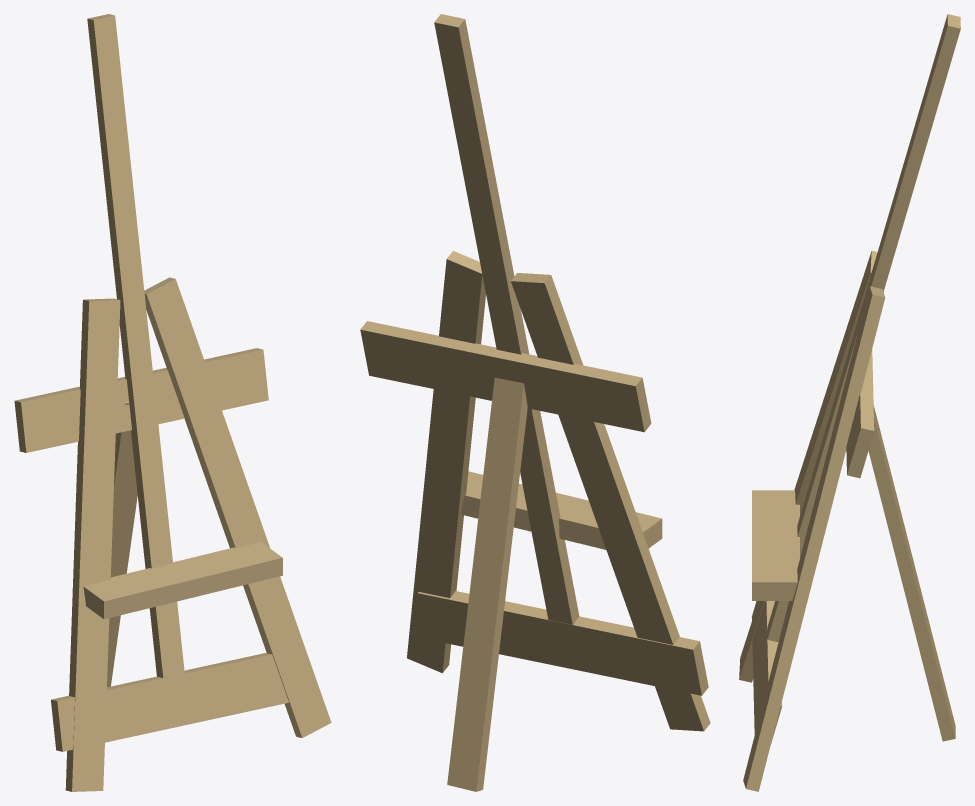
File: atoll_Easel.fbx
3 views of the same model, side by side, from view 1: azimuth 30°, elevation 25°; view 2: azimuth 150°, elevation 25°; view 3: azimuth 270°, elevation 25° (orthographic). The views are drawn at different scales.
Visible parts, largest first — view 1: pasted__pCube4, pasted__pCube1, pasted__pCube2, pasted__pCube5, pasted__pCube3, pasted__pCube7, pasted__pCube6; view 2: pasted__pCube4, pasted__pCube1, pasted__pCube6, pasted__pCube3, pasted__pCube2, pasted__pCube5, pasted__pCube7; view 3: pasted__pCube2, pasted__pCube4, pasted__pCube6, pasted__pCube7, pasted__pCube1, pasted__pCube3, pasted__pCube5.
Part boxes in pixels (x1,y1,x2,y2): pasted__pCube4: (87,14,184,677); pasted__pCube1: (65,298,120,791); pasted__pCube2: (144,277,331,737); pasted__pCube5: (51,653,288,751); pasted__pCube3: (14,348,268,452); pasted__pCube7: (83,542,282,619); pasted__pCube6: (107,402,137,687); pasted__pCube4: (434,14,579,624); pasted__pCube1: (511,273,710,731); pasted__pCube6: (447,377,527,791); pasted__pCube3: (360,321,651,432); pasted__pCube2: (407,251,485,673); pasted__pCube5: (417,591,708,695); pasted__pCube7: (460,471,662,549); pasted__pCube2: (743,286,885,791); pasted__pCube4: (767,14,960,642); pasted__pCube6: (868,405,955,741); pasted__pCube7: (752,490,799,600); pasted__pCube1: (739,250,877,682); pasted__pCube3: (846,349,874,478); pasted__pCube5: (752,601,782,743).
Bounding box in the file's own units: 143 × 351 × 97.91.
